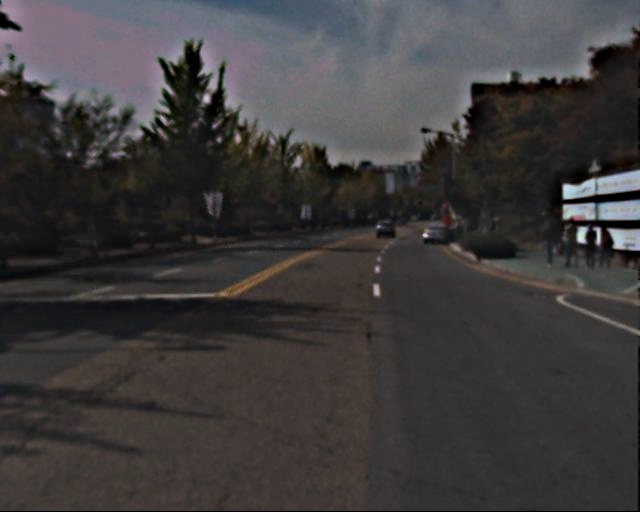person: (561, 219, 584, 271), (540, 218, 561, 269), (598, 225, 618, 271), (583, 223, 602, 271)
